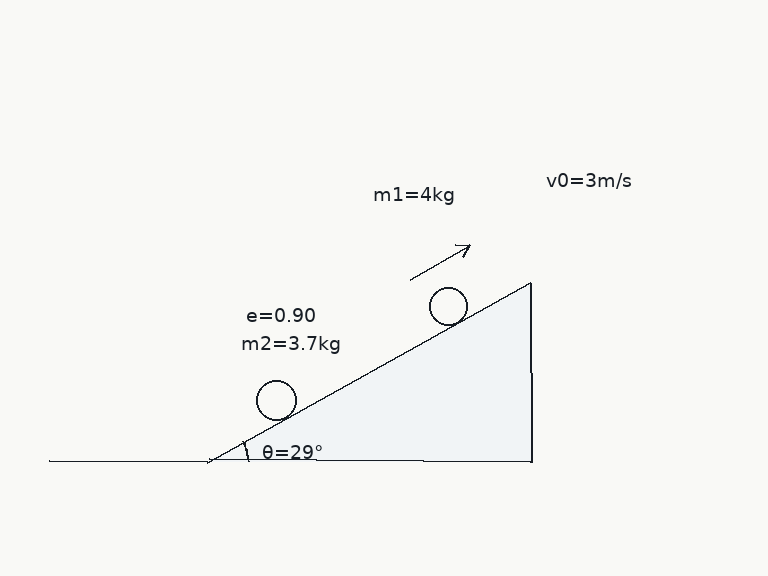ball: (254, 378, 298, 422), (427, 285, 469, 327)
ramp: (206, 280, 533, 463)
